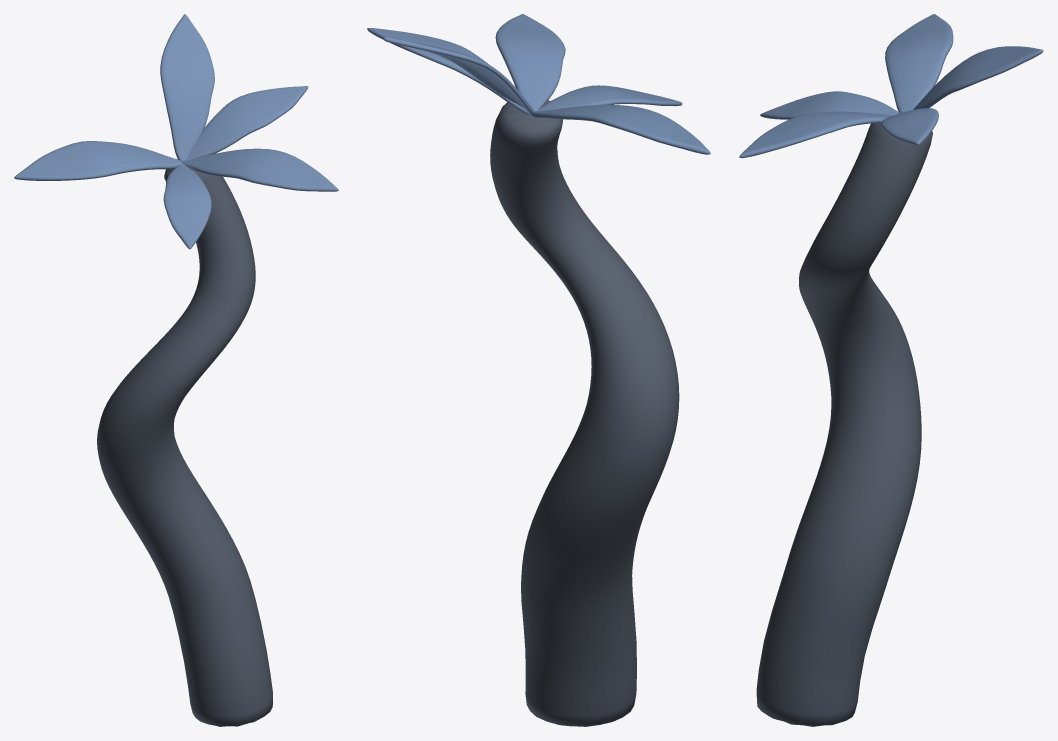
Rendered from plerb-1.fbx.
3 renders of one model, left to right at view 1: azimuth 30°, elevation 25°; view 2: azimuth 150°, elevation 25°; view 3: azimuth 270°, elevation 25°, orthographic. The views are drawn at different scales.
Visible parts, largest first — view 1: Spiral.026; view 2: Spiral.026; view 3: Spiral.026.
Part boxes in pixels (x1,y1,x2,y2): Spiral.026: (14, 14, 338, 726); Spiral.026: (367, 14, 710, 726); Spiral.026: (739, 14, 1043, 726).
Bounding box in the file's own units: 11.14 × 22.61 × 8.97.
